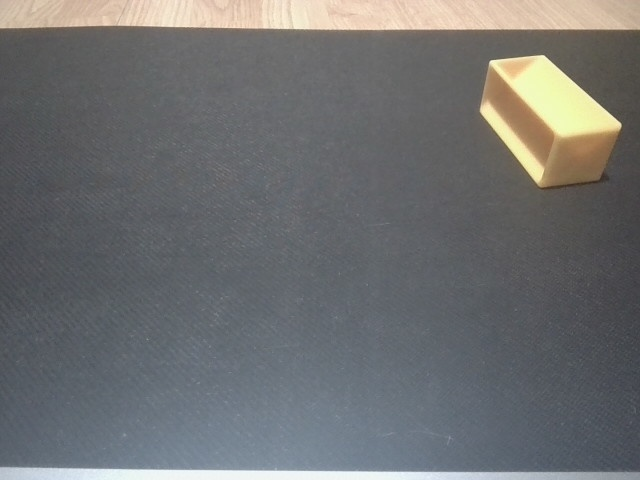YellowSample: (469, 50, 625, 192)
